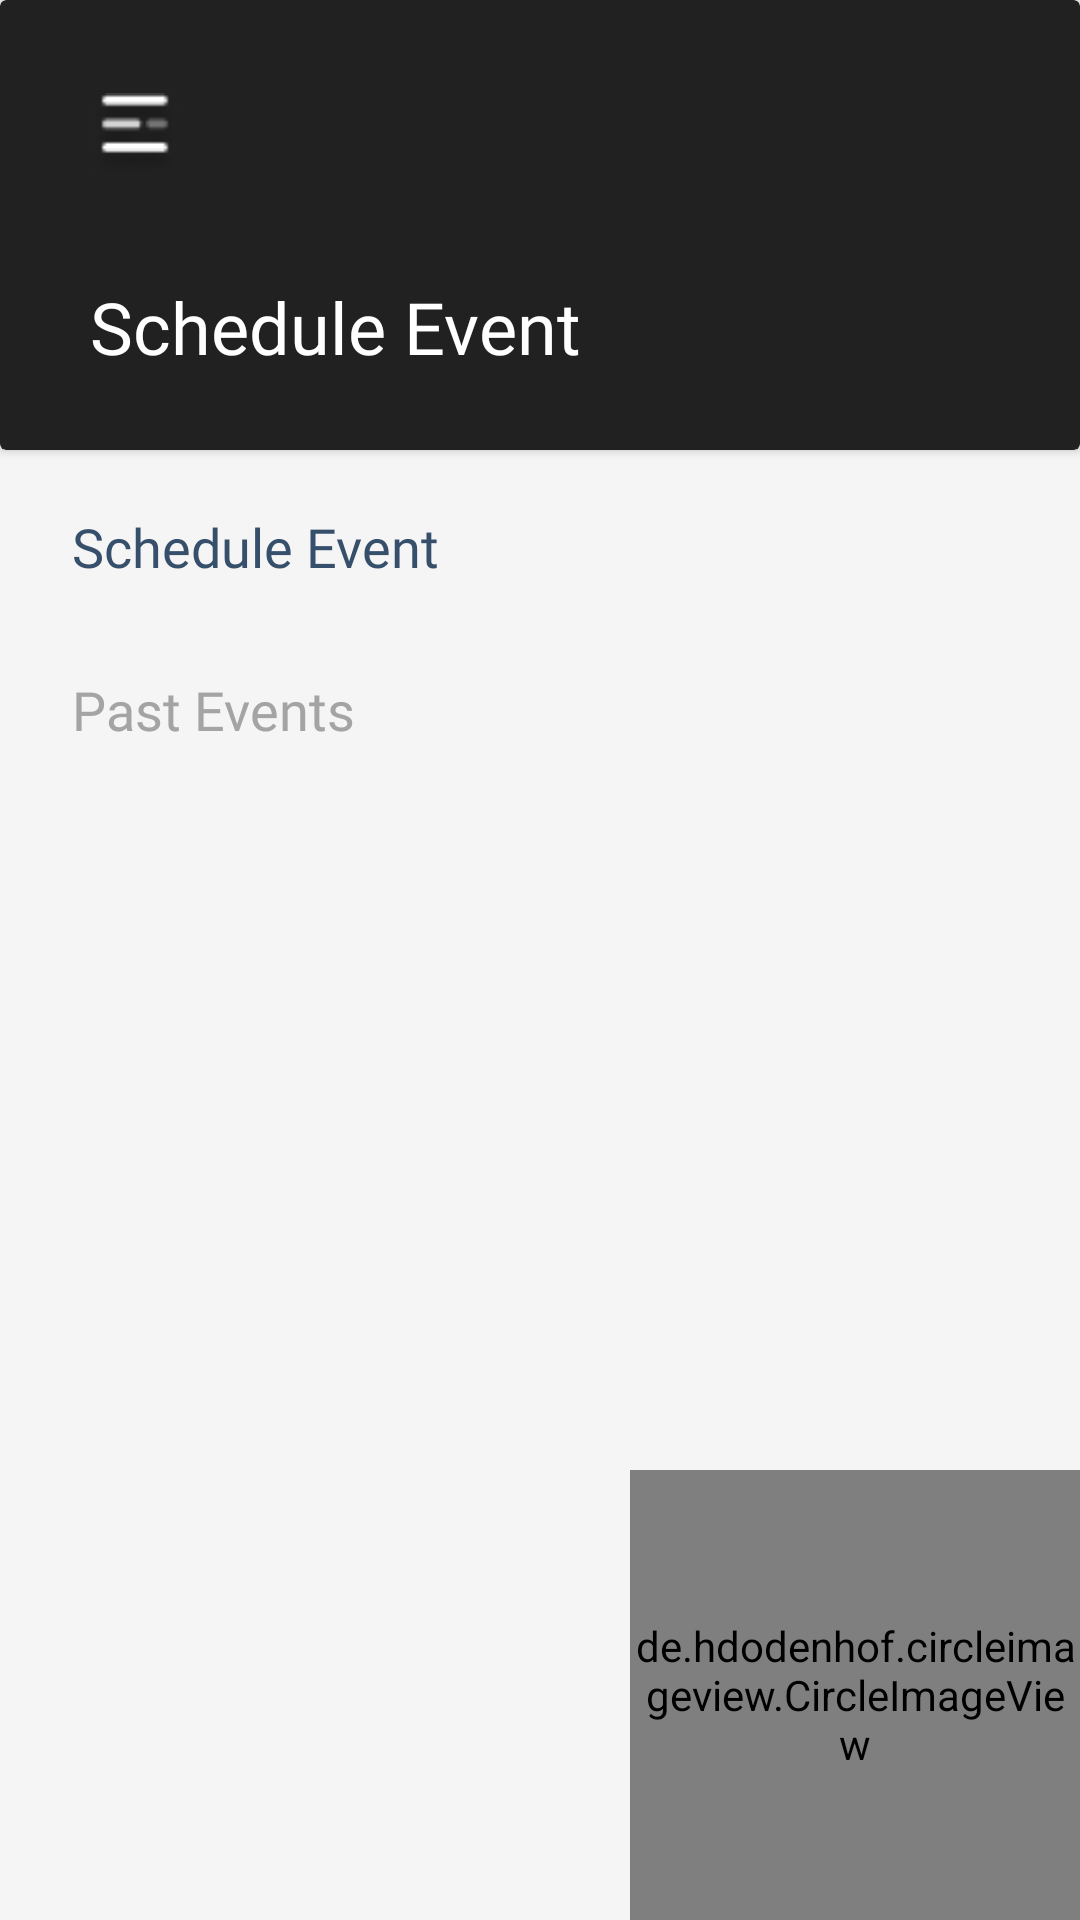

Icon bounding boxes for this 1080 × 1920 phone screenshot, format (x1, y1, x2, y2):
threedash: (101, 93, 169, 153)
